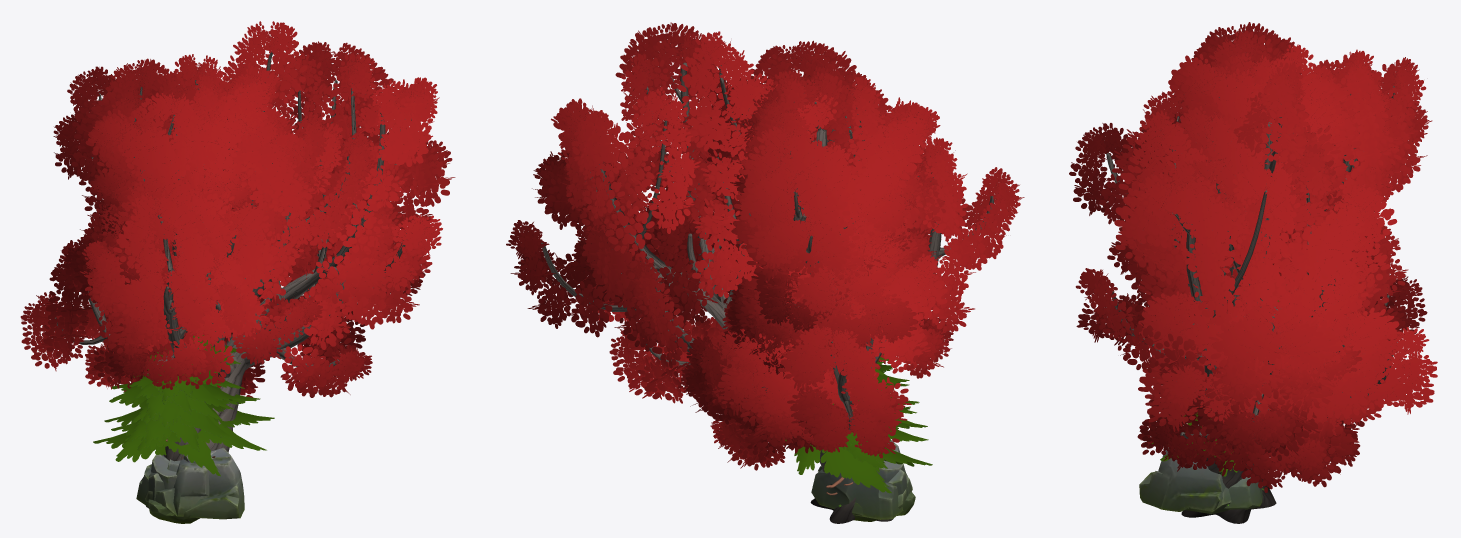
The model's file is nature-full.glb.
3 views of the same model, side by side, from view 1: azimuth 30°, elevation 25°; view 2: azimuth 150°, elevation 25°; view 3: azimuth 270°, elevation 25° (orthographic). The views are drawn at different scales.
Parts seen in each view (by area): view 1: TwistedTree_3, TwistedTree_1, TwistedTree_5, Pine_5, Rock_Medium_3, Pine_1, Rock_Medium_1, Pine_3, Rock_Medium_2; view 2: TwistedTree_1, TwistedTree_3, TwistedTree_5, Pine_5, Rock_Medium_2, Pine_1; view 3: TwistedTree_1, TwistedTree_3, TwistedTree_5, Rock_Medium_3, Rock_Medium_2.
Part boxes in pixels (left/top/right/bottom): TwistedTree_3: left=20, top=54, right=377, bottom=460; TwistedTree_1: left=106, top=21, right=455, bottom=508; TwistedTree_5: left=60, top=58, right=330, bottom=460; Pine_5: left=93, top=336, right=274, bottom=476; Rock_Medium_3: left=148, top=447, right=244, bottom=523; Pine_1: left=111, top=335, right=245, bottom=457; Rock_Medium_1: left=145, top=451, right=215, bottom=516; Pine_3: left=119, top=335, right=235, bottom=439; Rock_Medium_2: left=136, top=454, right=177, bottom=506; TwistedTree_1: left=506, top=22, right=929, bottom=523; TwistedTree_3: left=678, top=40, right=1024, bottom=470; TwistedTree_5: left=706, top=67, right=949, bottom=378; Pine_5: left=785, top=357, right=932, bottom=493; Rock_Medium_2: left=811, top=461, right=903, bottom=519; Pine_1: left=826, top=359, right=928, bottom=488; TwistedTree_1: left=1075, top=62, right=1437, bottom=523; TwistedTree_3: left=1069, top=28, right=1432, bottom=480; TwistedTree_5: left=1133, top=22, right=1426, bottom=319; Rock_Medium_3: left=1139, top=447, right=1225, bottom=511; Rock_Medium_2: left=1224, top=477, right=1262, bottom=509.
Bounding box in the file's own units: 15.83 × 16.84 × 11.71.
11 materials, 11 textured.
